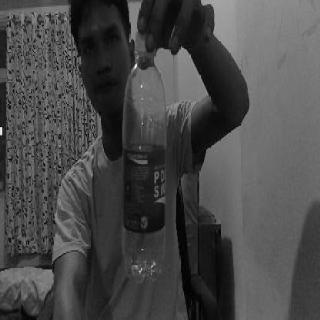plastic_bottles: (122, 33, 167, 283)
